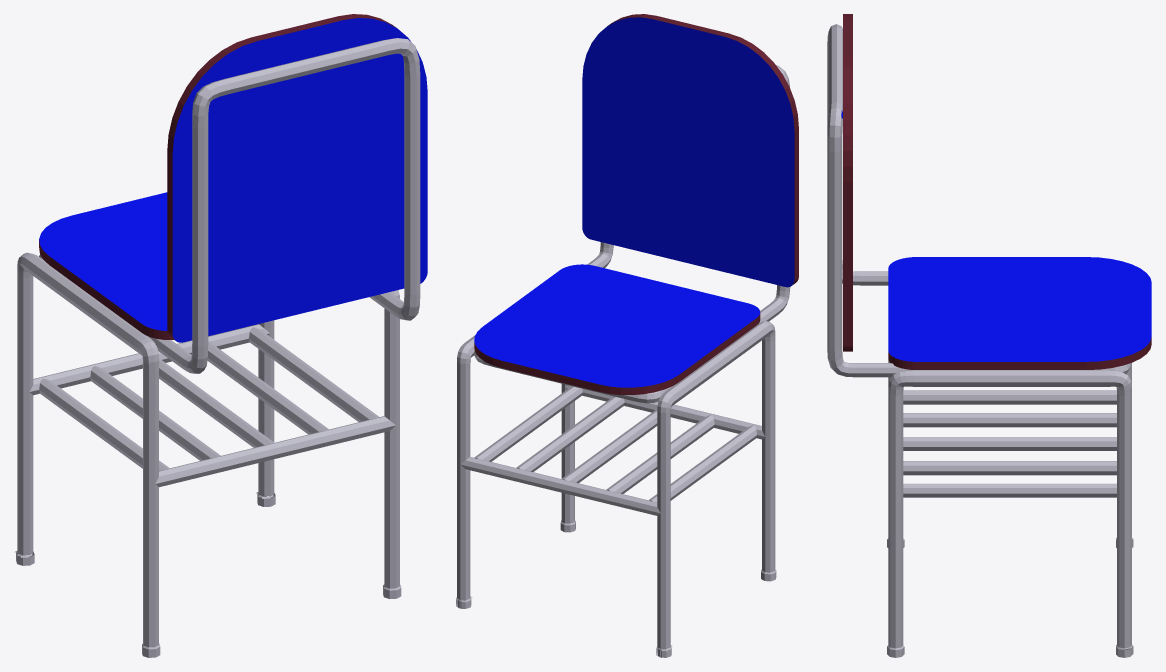
The model's file is sillanet.fbx.
The picture shows the model from 3 angles, left to right: view 1: azimuth 30°, elevation 25°; view 2: azimuth 150°, elevation 25°; view 3: azimuth 270°, elevation 25°; orthographic projection. The views are drawn at different scales.
Visible parts, largest first — view 1: Silla; view 2: Silla; view 3: Silla.
Part boxes in pixels (<box>): Silla: <box>15,14,427,657</box>; Silla: <box>456,14,798,657</box>; Silla: <box>827,14,1151,657</box>.
Size of the model in its own units: 36 by 82.04 by 43.13.
